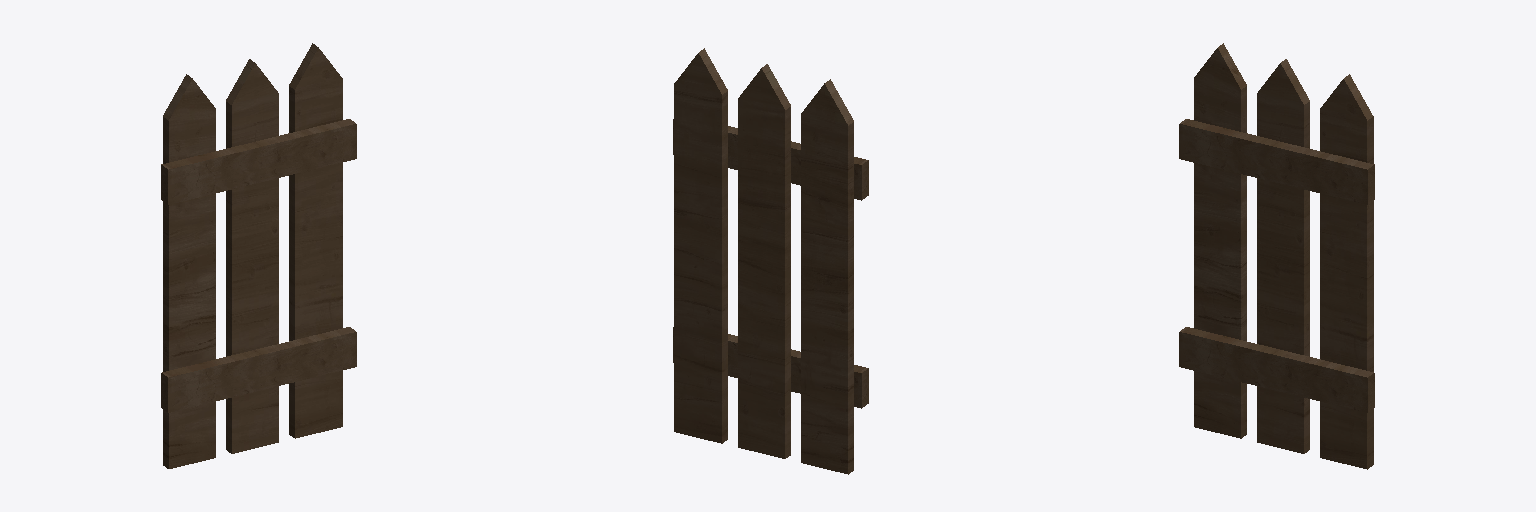
3 views of the same model, side by side, from view 1: azimuth 30°, elevation 25°; view 2: azimuth 150°, elevation 25°; view 3: azimuth 330°, elevation 25° (orthographic).
Parts seen in each view (by area): view 1: Cube.004_Cube.008; view 2: Cube.004_Cube.008; view 3: Cube.004_Cube.008.
Boxes of the visible parts, <box> form: Cube.004_Cube.008: <box>161,43,356,468</box>; Cube.004_Cube.008: <box>673,48,868,474</box>; Cube.004_Cube.008: <box>1179,43,1374,469</box>.
Size of the model in its own units: 1.49 by 2.92 by 0.1783.
Materials: 3 (1 with a texture image).